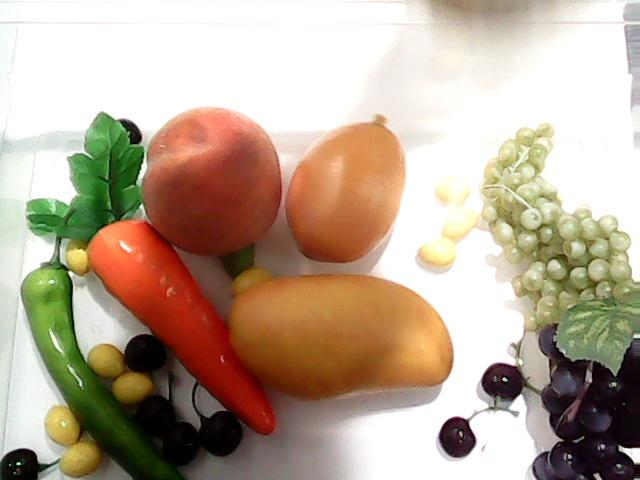carrot: (27, 109, 275, 438)
grape: (476, 119, 640, 329), (535, 307, 640, 477)
lemon: (280, 110, 408, 268)
mango: (228, 267, 452, 405)
peach: (144, 106, 282, 257)
pepper: (16, 219, 192, 480)
